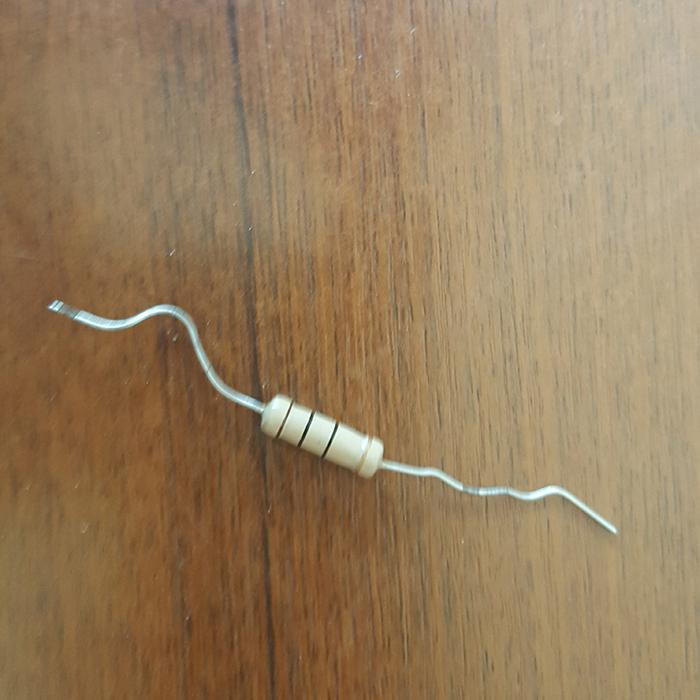resistor: (259, 391, 384, 475)
